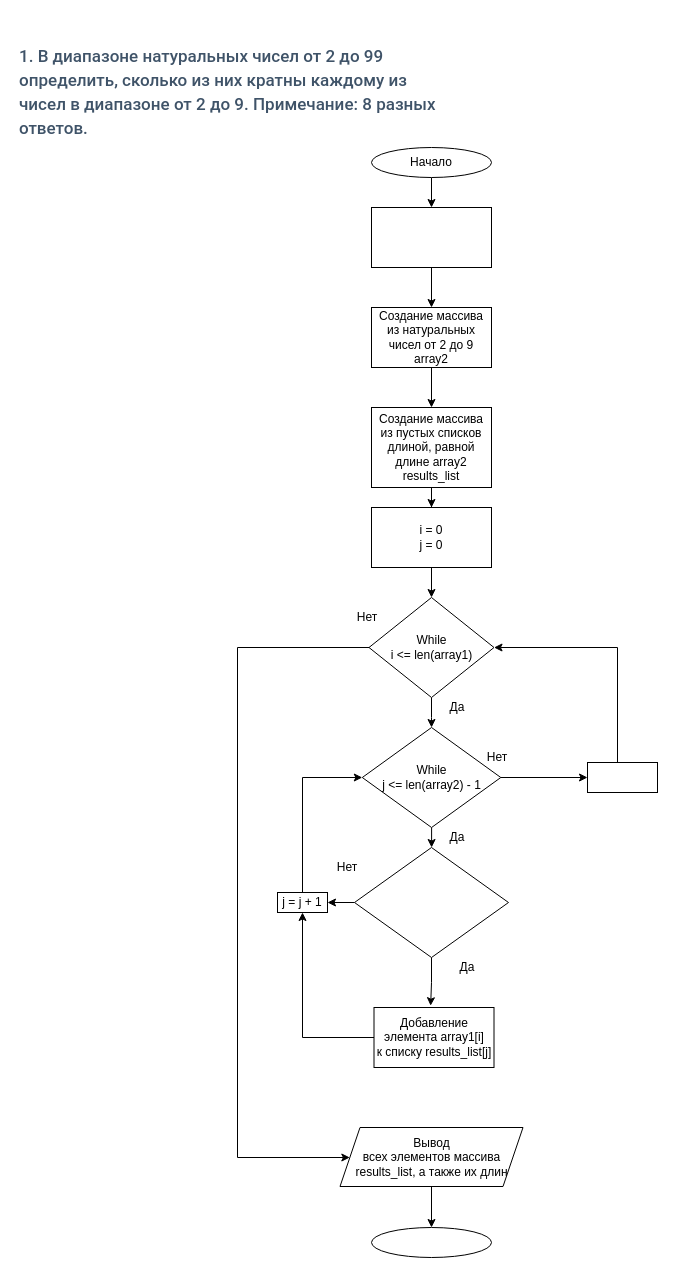
Some shapes in this 675 by 1275 pixel diagram are drawn without their labels. Each missing label, with the centre of its shape:
"array1[i] % array2[j] == 0" belongs at pixel 431 902.
"j = 0 i = i + 1" belongs at pixel 622 777.
"Конец" belongs at pixel 431 1242.
"Создание массива натуральных чисел от 2 до 99 array1" belongs at pixel 431 237.
